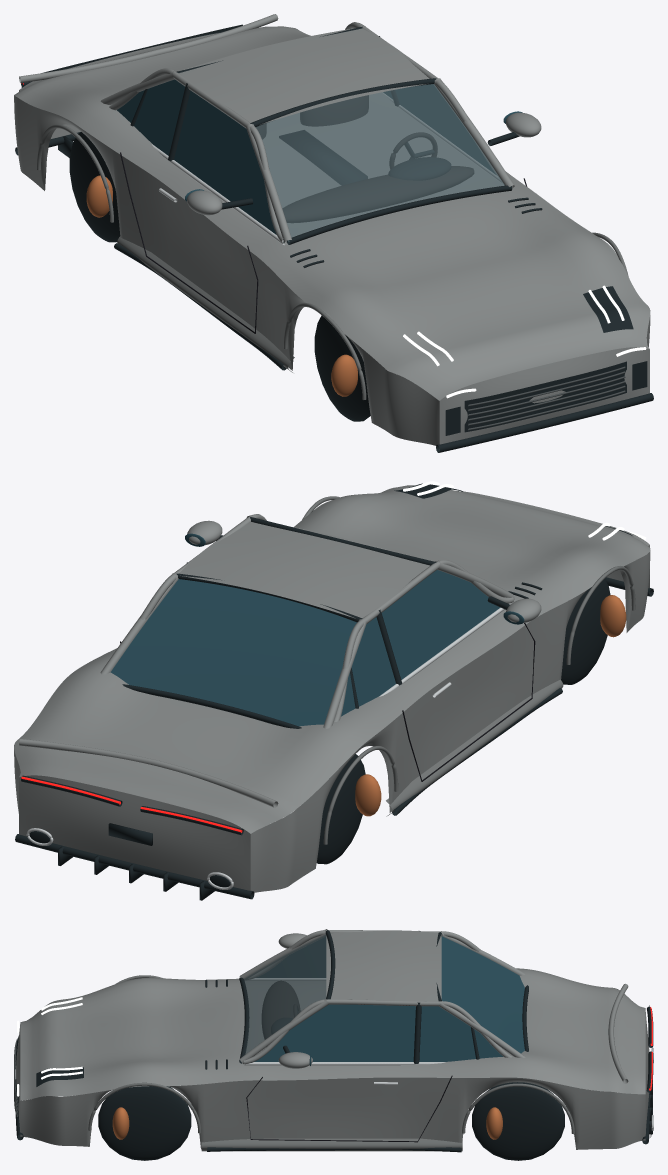
File: car.glb
3 renders of one model, top to bottom at view 1: azimuth 30°, elevation 25°; view 2: azimuth 150°, elevation 25°; view 3: azimuth 270°, elevation 25°, orthographic. The views are drawn at different scales.
Parts seen in each view (by area): view 1: Graphite titanium • clearcoat, Windscreen glass, Obsidian trim, Smoked blue glass, Charcoal leather, Satin titanium, Wheel graphite, Copper brake calipers, Machined forged alloy, LED ceramic; view 2: Graphite titanium • clearcoat, Smoked blue glass, Obsidian trim, Satin titanium, Copper brake calipers, Machined forged alloy, Ruby tail lamps; view 3: Graphite titanium • clearcoat, Smoked blue glass, Obsidian trim, Windscreen glass, Satin titanium, Charcoal leather, Machined forged alloy, Copper brake calipers, LED ceramic, Panel seams.
Part boxes in pixels (x1,y1,x2,y2): Graphite titanium • clearcoat: (14,14,650,445); Windscreen glass: (256,84,504,241); Obsidian trim: (15,24,653,452); Smoked blue glass: (117,79,522,242); Charcoal leather: (256,95,473,222); Satin titanium: (37,124,628,399); Wheel graphite: (468,366,625,430); Copper brake calipers: (86,175,357,396); Machined forged alloy: (152,92,512,245); LED ceramic: (403,285,646,398); Graphite titanium • clearcoat: (14,485,650,892); Smoked blue glass: (110,533,524,726); Obsidian trim: (15,483,653,900); Satin titanium: (302,496,635,844); Copper brake calipers: (355,595,626,816); Machined forged alloy: (26,602,513,889); Ruby tail lamps: (21,776,242,832); Graphite titanium • clearcoat: (16,929,649,1149); Smoked blue glass: (254,936,524,1065); Obsidian trim: (15,930,653,1160); Windscreen glass: (244,934,326,1054); Satin titanium: (88,975,574,1151); Charcoal leather: (262,981,300,1039); Machined forged alloy: (244,978,653,1130); Copper brake calipers: (112,1107,502,1139); LED ceramic: (17,997,82,1096); Panel seams: (246,1075,452,1142).
Size of the model in its own units: 2.3 by 1.29 by 4.83.
